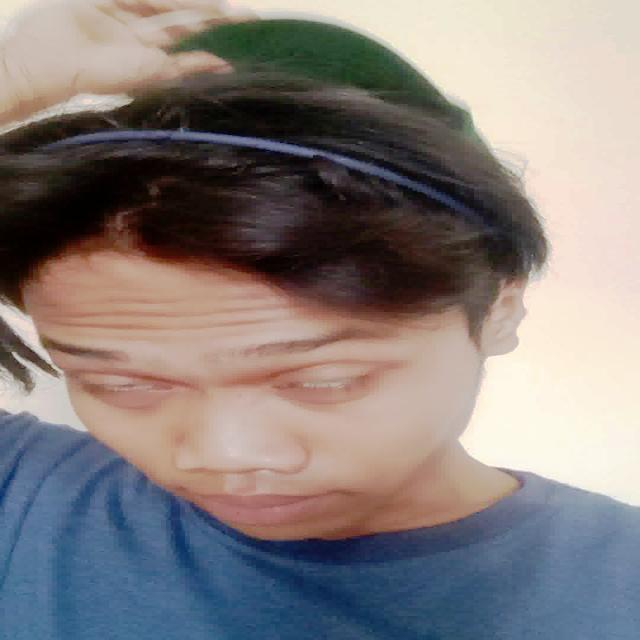TOPI: (144, 19, 508, 125)
